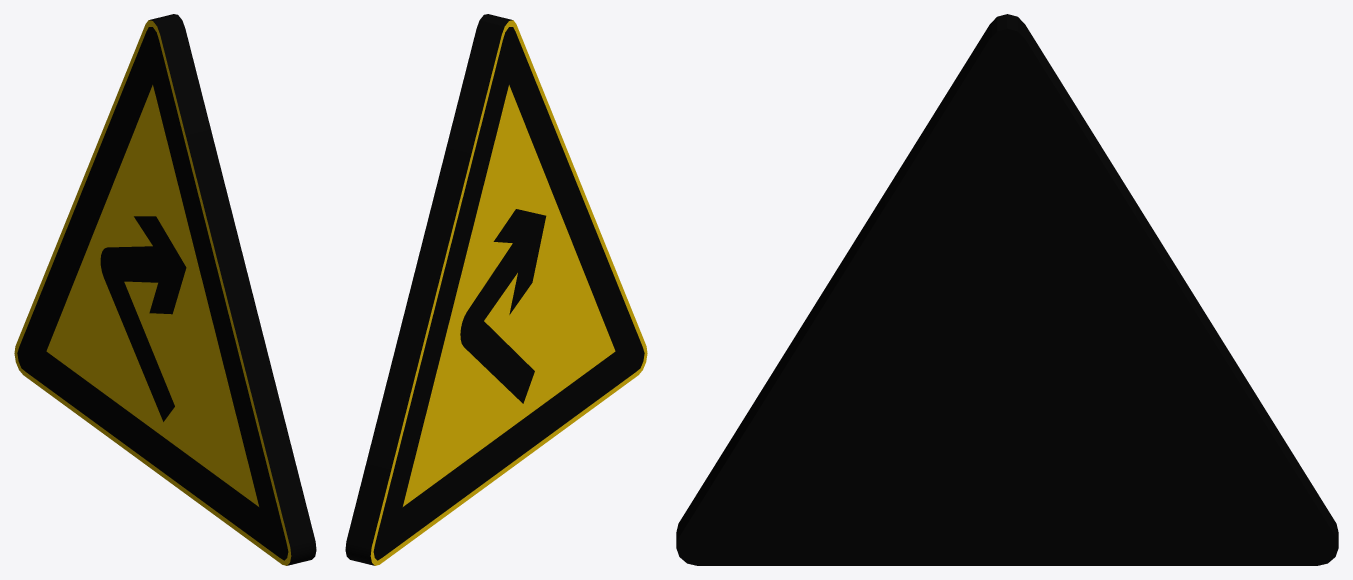
Rendered from Turn_Right_Quickly.fbx.
3 views of the same model, side by side, from view 1: azimuth 30°, elevation 25°; view 2: azimuth 150°, elevation 25°; view 3: azimuth 270°, elevation 25° (orthographic). The views are drawn at different scales.
Visible parts, largest first — view 1: Turn_Right_Quickly; view 2: Turn_Right_Quickly; view 3: Turn_Right_Quickly.
Boxes of the visible parts, x1,y1,x2,y2 form: Turn_Right_Quickly: (14, 14, 316, 565); Turn_Right_Quickly: (345, 14, 647, 565); Turn_Right_Quickly: (676, 14, 1338, 565).
Bounding box in the file's own units: 0.0643 × 1.02 × 1.14.
